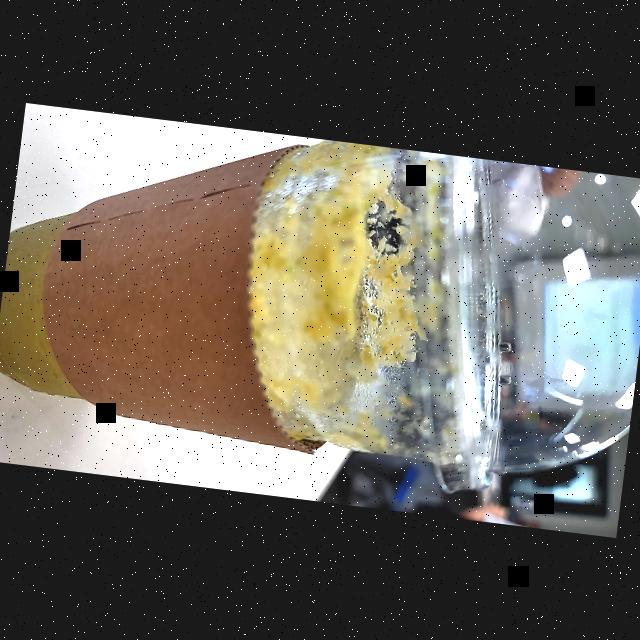plastic_cup: (0, 103, 640, 515)
plastic_cup_lid: (384, 151, 640, 515)
